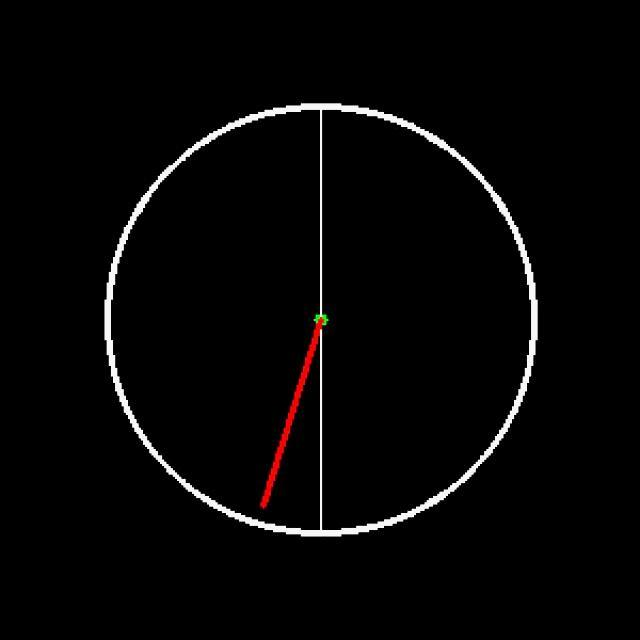Needle_Tip: (246, 485, 293, 526)
Needle_base: (298, 283, 360, 356)
